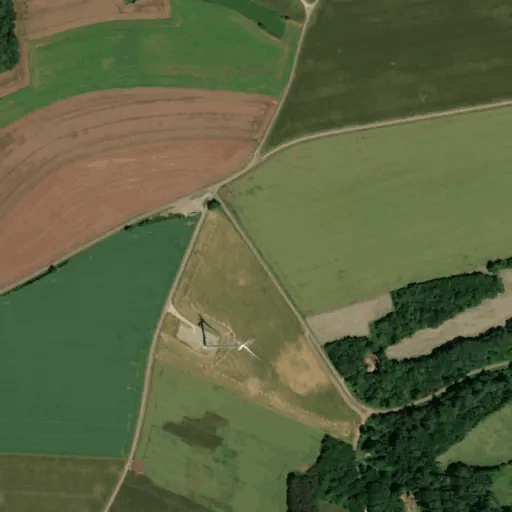wt: (191, 305, 266, 362)
